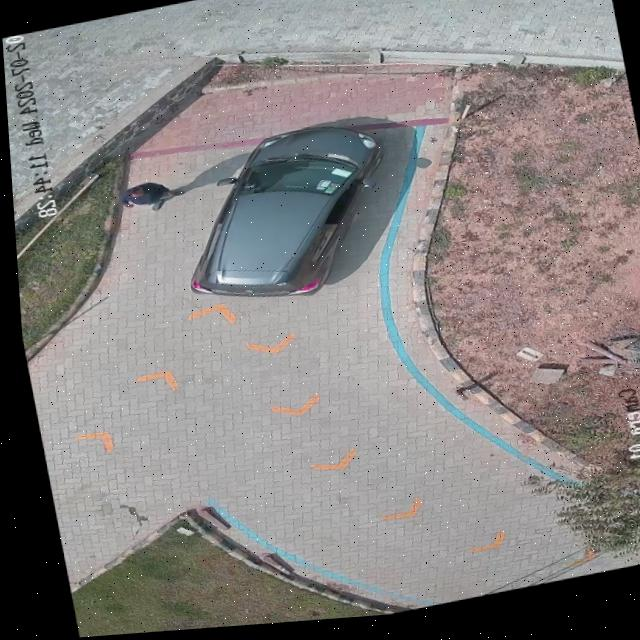car: (188, 129, 379, 300)
